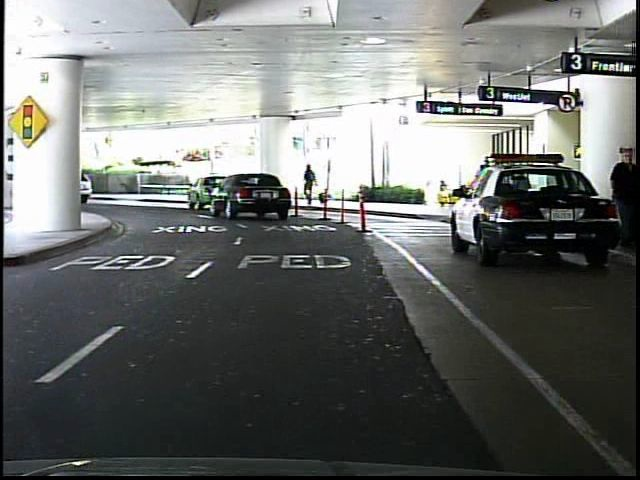person: (608, 142, 637, 248), (301, 161, 325, 207)
